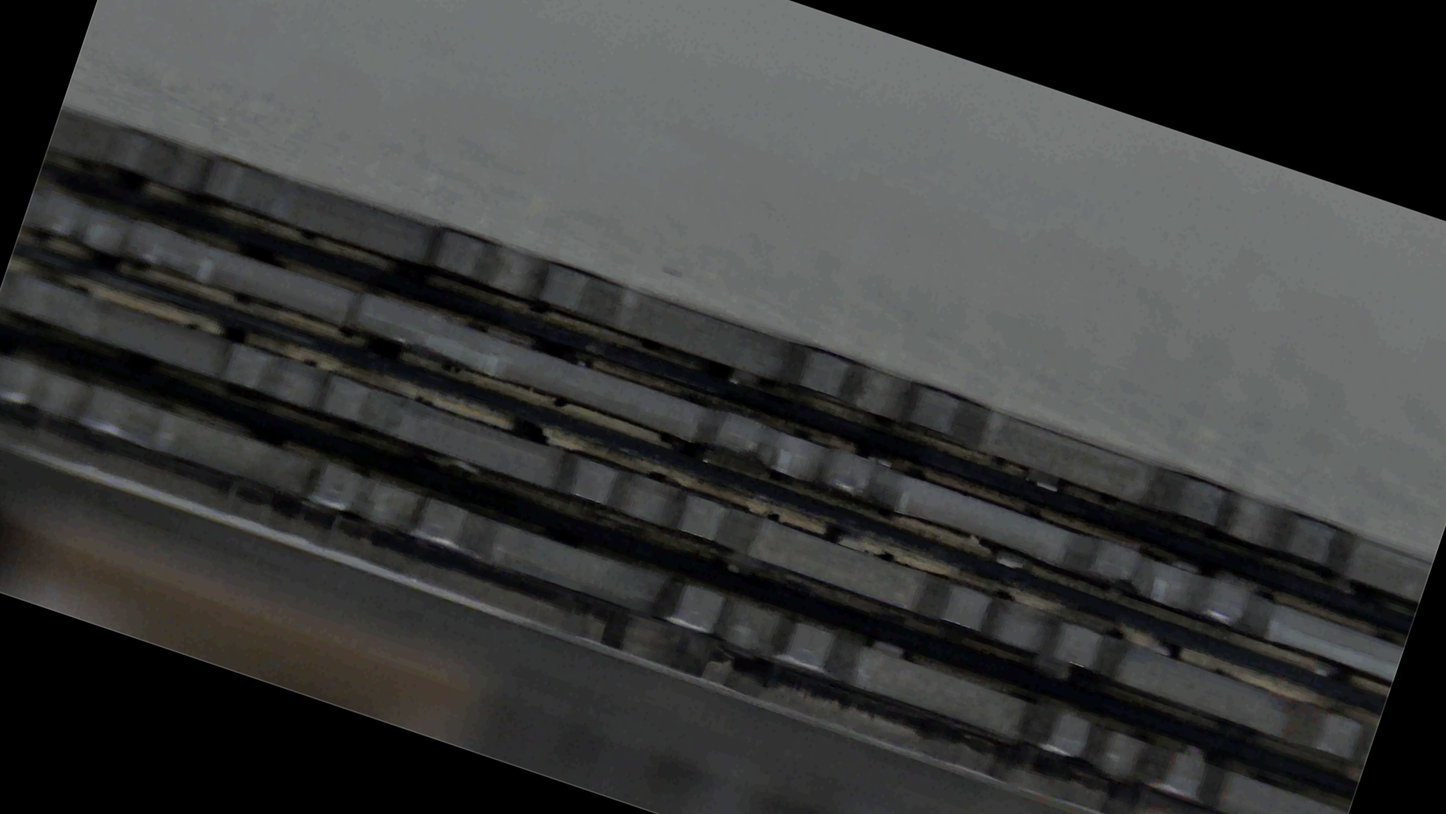Black metal plate: (49, 110, 1428, 598), (0, 0, 1368, 354)
shiney metal plate: (0, 0, 1343, 473), (0, 357, 1445, 408), (4, 269, 1445, 318)
spacer: (10, 115, 1387, 557), (0, 404, 1445, 437), (0, 232, 1445, 260)
